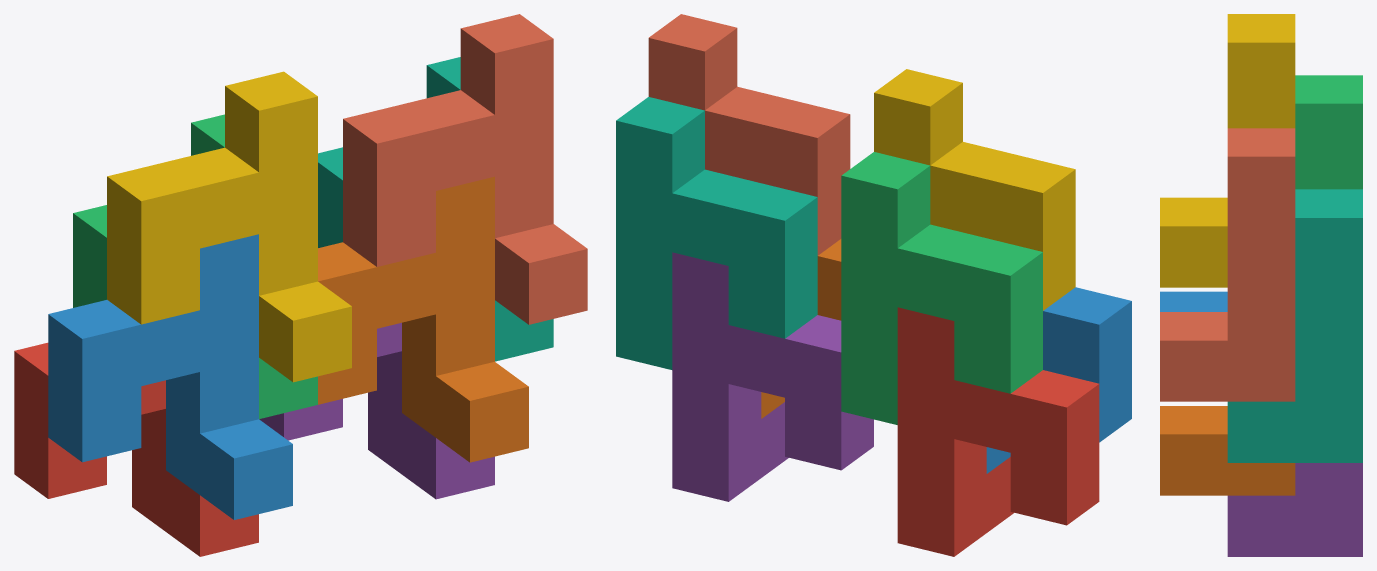
Rendered from tiling.obj.
3 renders of one model, left to right at view 1: azimuth 30°, elevation 25°; view 2: azimuth 150°, elevation 25°; view 3: azimuth 270°, elevation 25°, orthographic. The views are drawn at different scales.
Parts seen in each view (by area): view 1: copy_1_domain_8, copy_1_domain_4, copy_1_domain_2, copy_1_domain_6, copy_1_domain_1, copy_1_domain_5, copy_1_domain_3, copy_1_domain_7; view 2: copy_1_domain_7, copy_1_domain_3, copy_1_domain_1, copy_1_domain_5, copy_1_domain_4, copy_1_domain_8, copy_1_domain_2, copy_1_domain_6; view 3: copy_1_domain_8, copy_1_domain_7, copy_1_domain_4, copy_1_domain_5, copy_1_domain_6, copy_1_domain_3, copy_1_domain_2.
Boxes of the visible parts, x1=… form: copy_1_domain_8: x1=343, y1=14, x2=587, y2=324; copy_1_domain_4: x1=107, y1=71, x2=351, y2=382; copy_1_domain_2: x1=48, y1=234, x2=292, y2=519; copy_1_domain_6: x1=318, y1=176, x2=528, y2=462; copy_1_domain_1: x1=14, y1=342, x2=258, y2=556; copy_1_domain_5: x1=259, y1=322, x2=494, y2=499; copy_1_domain_3: x1=73, y1=114, x2=317, y2=418; copy_1_domain_7: x1=318, y1=57, x2=553, y2=361; copy_1_domain_7: x1=616, y1=97, x2=817, y2=369; copy_1_domain_3: x1=841, y1=152, x2=1042, y2=424; copy_1_domain_1: x1=897, y1=307, x2=1099, y2=556; copy_1_domain_5: x1=672, y1=252, x2=873, y2=501; copy_1_domain_4: x1=874, y1=69, x2=1075, y2=310; copy_1_domain_8: x1=648, y1=14, x2=850, y2=255; copy_1_domain_2: x1=986, y1=287, x2=1131, y2=473; copy_1_domain_6: x1=761, y1=239, x2=841, y2=418; copy_1_domain_8: x1=1160, y1=128, x2=1295, y2=401; copy_1_domain_7: x1=1227, y1=189, x2=1362, y2=462; copy_1_domain_4: x1=1160, y1=14, x2=1295, y2=287; copy_1_domain_5: x1=1227, y1=463, x2=1362, y2=556; copy_1_domain_6: x1=1160, y1=406, x2=1295, y2=495; copy_1_domain_3: x1=1295, y1=75, x2=1362, y2=189; copy_1_domain_2: x1=1160, y1=291, x2=1227, y2=311.
Size of the model in its own units: 8 by 7 by 3.
